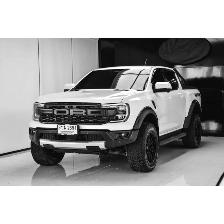NON-EV: (29, 59, 204, 175)
